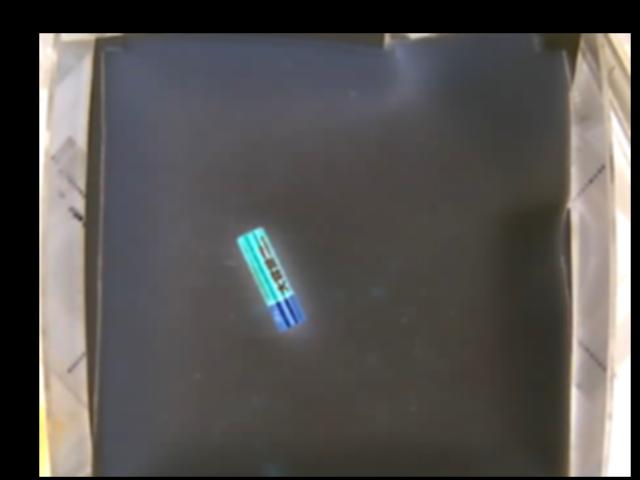Battery: (235, 225, 303, 326)
